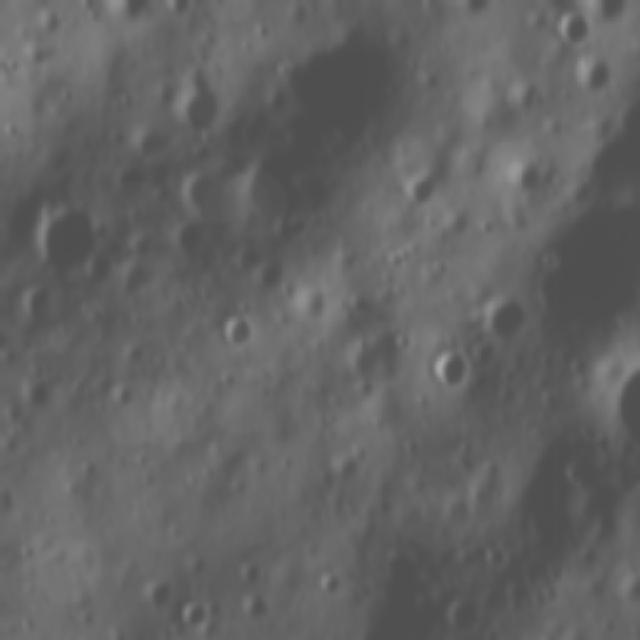crater: (595, 347, 640, 464), (34, 211, 97, 266), (478, 282, 528, 346), (174, 88, 228, 126), (422, 357, 476, 391), (439, 603, 484, 639), (318, 558, 348, 605), (218, 312, 250, 352), (171, 598, 207, 631), (576, 60, 607, 92), (405, 172, 438, 200), (557, 13, 588, 42), (606, 638, 640, 640)
